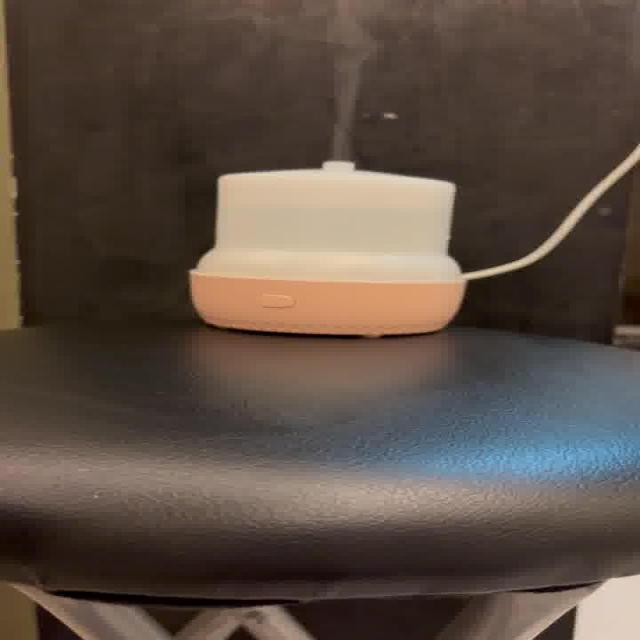fire: (314, 46, 371, 156)
